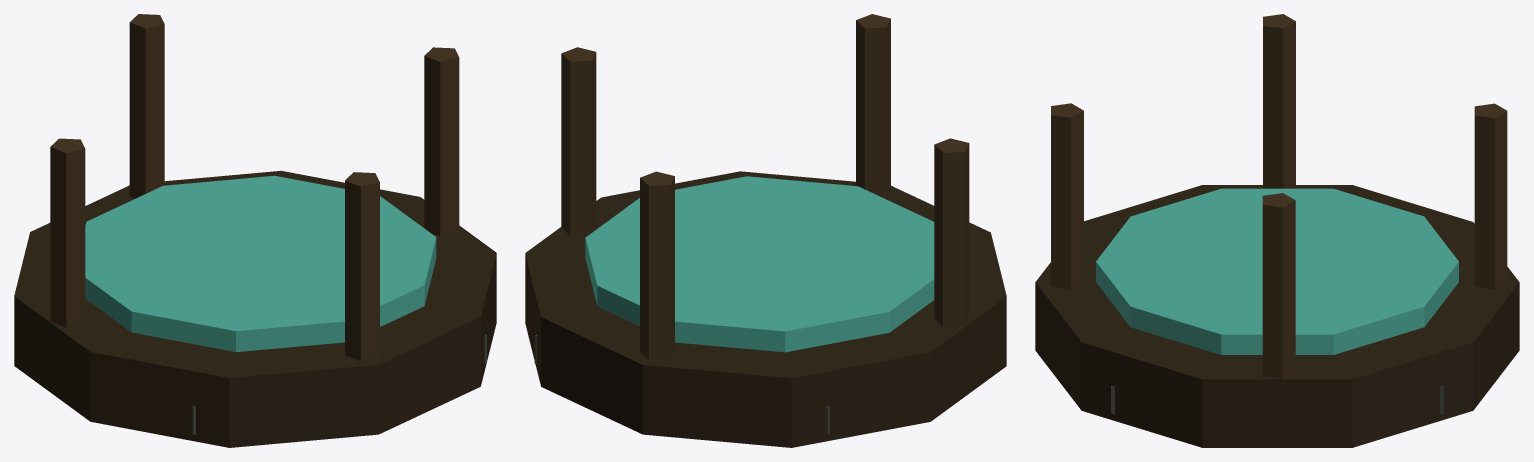
The model's file is grove_mire_pool.glb.
3 views of the same model, side by side, from view 1: azimuth 30°, elevation 25°; view 2: azimuth 150°, elevation 25°; view 3: azimuth 270°, elevation 25° (orthographic).
Parts seen in each view (by area): view 1: grove_mire_pool; view 2: grove_mire_pool; view 3: grove_mire_pool.
Boxes of the visible parts, x1=… form: grove_mire_pool: x1=14, y1=14, x2=496, y2=447; grove_mire_pool: x1=525, y1=14, x2=1006, y2=447; grove_mire_pool: x1=1035, y1=14, x2=1519, y2=447.
Size of the model in its own units: 30.43 by 17.5 by 32.
